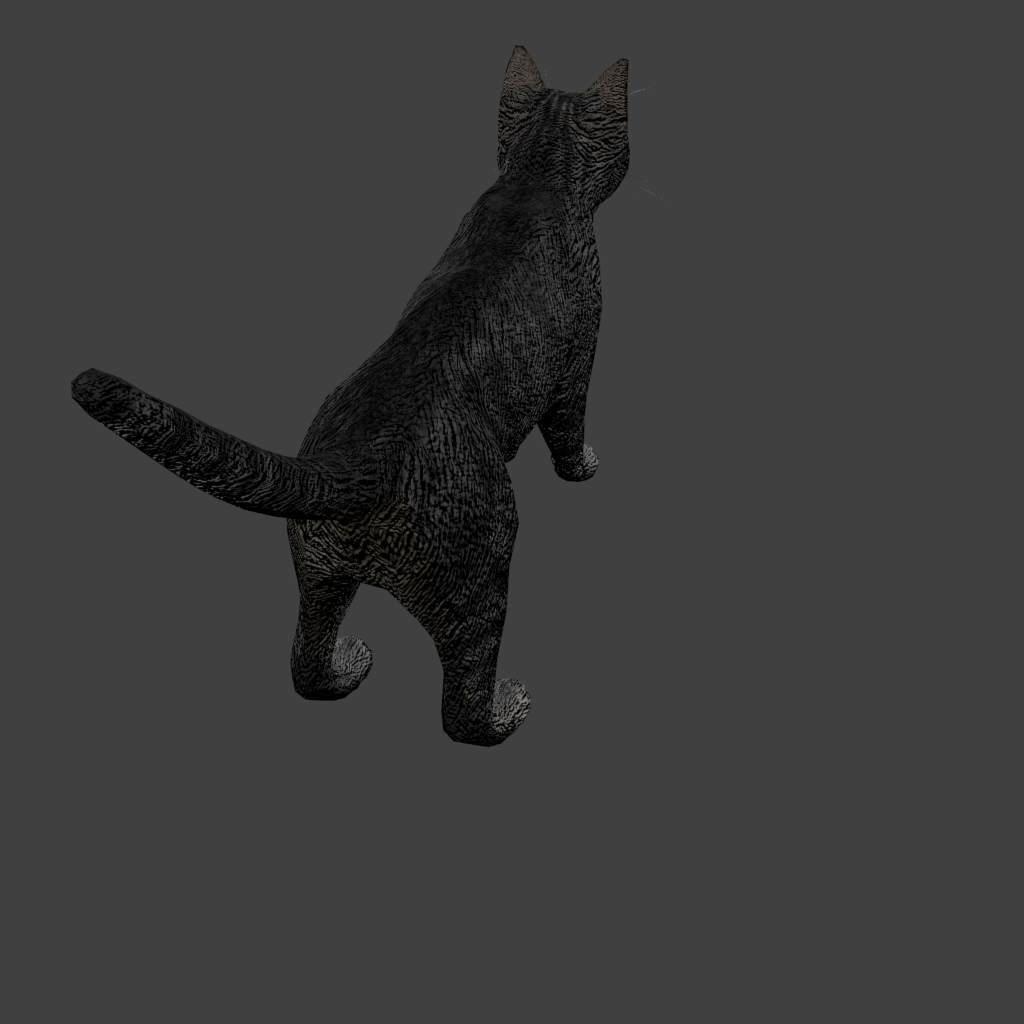Cat: (71, 45, 598, 702)
